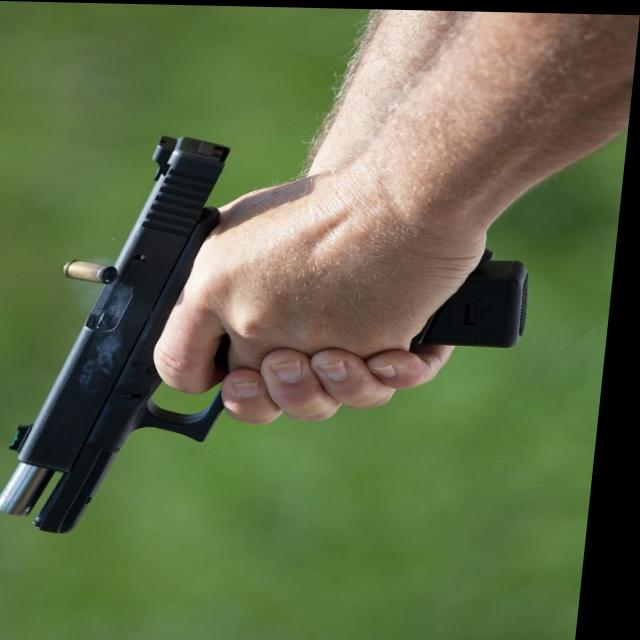handgun: (0, 126, 538, 551)
